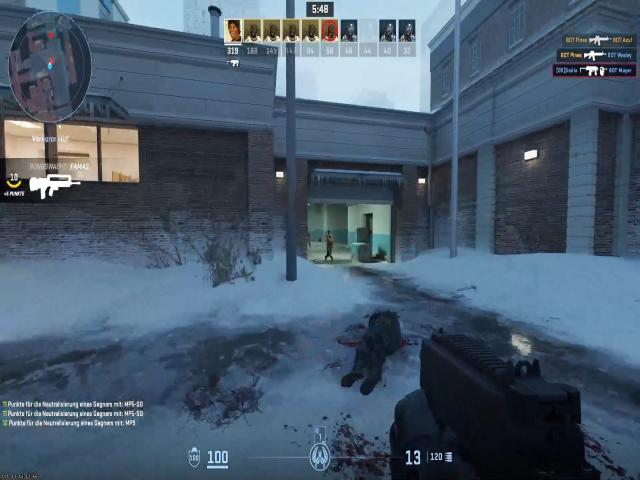Dead: (347, 294, 413, 392)
T: (323, 226, 336, 268)
T-Head: (325, 229, 332, 238)
